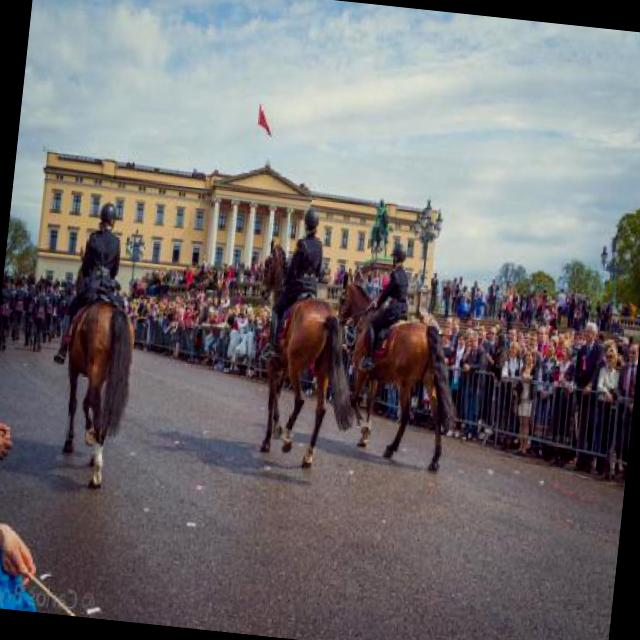Person: (0, 222, 640, 485), (48, 196, 138, 372), (261, 203, 328, 363), (358, 240, 413, 376), (450, 327, 490, 443), (0, 508, 45, 610), (568, 318, 608, 396), (0, 419, 14, 472), (484, 278, 502, 318), (426, 270, 438, 311), (520, 334, 530, 364), (542, 322, 556, 343), (185, 266, 195, 288), (220, 308, 228, 327)
